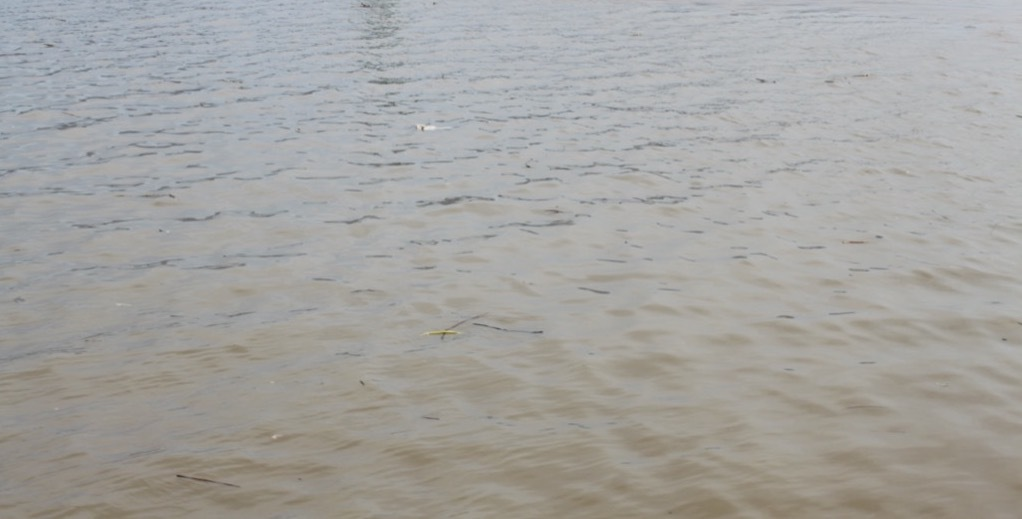organic: (408, 296, 555, 353), (167, 462, 252, 498), (832, 225, 891, 253), (568, 276, 619, 308), (743, 68, 795, 93), (413, 407, 449, 427), (288, 463, 312, 489), (149, 217, 178, 238), (262, 426, 294, 443), (817, 73, 847, 91), (846, 68, 882, 83), (349, 371, 373, 392), (159, 185, 184, 203), (994, 331, 1014, 347)
plastic: (394, 100, 467, 149)
